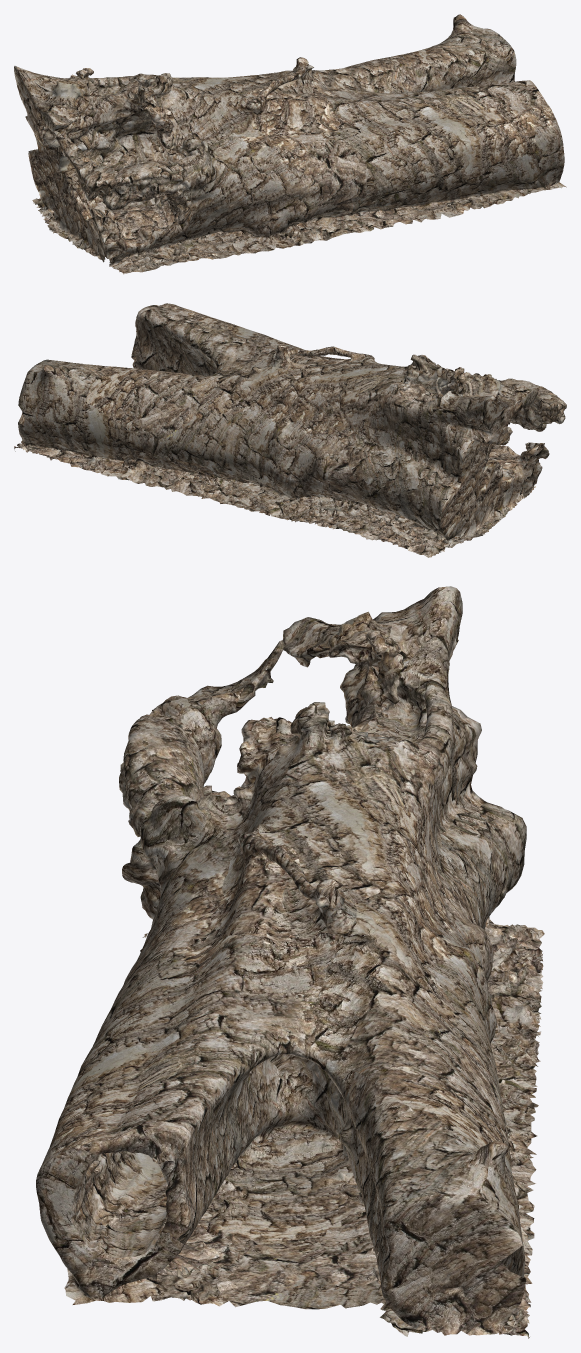
The model's file is Log.fbx.
3 renders of one model, top to bottom at view 1: azimuth 30°, elevation 25°; view 2: azimuth 150°, elevation 25°; view 3: azimuth 270°, elevation 25°, orthographic. The views are drawn at different scales.
Visible parts, largest first — view 1: big_strom; view 2: big_strom; view 3: big_strom.
Boxes of the visible parts, left/top/right/bottom form: big_strom: left=14, top=14, right=566, bottom=274; big_strom: left=14, top=303, right=566, bottom=557; big_strom: left=36, top=586, right=544, bottom=1338.
Size of the model in its own units: 302 by 96.31 by 142.
